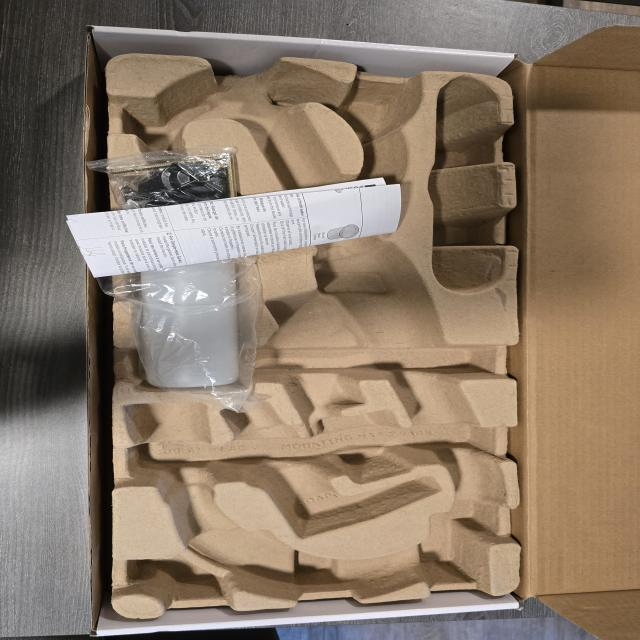1m: (126, 60, 506, 600)
2m: (220, 400, 439, 538)
3o: (140, 222, 244, 389)
4m: (432, 74, 503, 297)
5m: (346, 85, 410, 135)
6m: (122, 80, 216, 144)
7o: (87, 144, 241, 221)
8: (66, 175, 403, 278)
